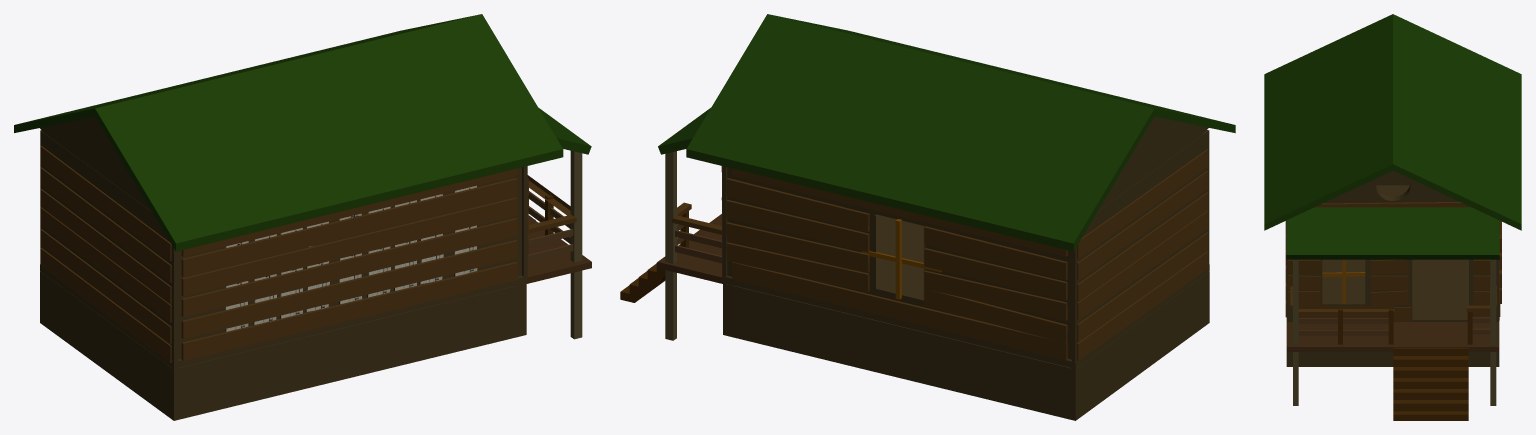
The model's file is cabin1.fbx.
The picture shows the model from 3 angles, left to right: view 1: azimuth 30°, elevation 25°; view 2: azimuth 150°, elevation 25°; view 3: azimuth 270°, elevation 25°; orthographic projection. The views are drawn at different scales.
Parts seen in each view (by area): view 1: Cube.123, Cube.170, Cube.006, Cube.166, Cube.104, Cube.008, Cube.009, Cube.003, Cube.178, Cube.004; view 2: Cube.123, Cube.170, Cube.006, Cube.166, Cube.104, Cube.009, Cube.003, Cube.122, Cube.168, Cube.178, Cube.004; view 3: Cube.123, Cube.170, Cube.122, Cube.104, Cube.003, Cube.166, Cube.006, Cube.009, Cube.178, Cube.004, Cube.181, Cube.168.
Boxes of the visible parts, <box> form: Cube.123: <box>14,14,591,251</box>; Cube.170: <box>40,146,529,363</box>; Cube.006: <box>40,271,526,420</box>; Cube.166: <box>40,116,527,369</box>; Cube.104: <box>40,264,523,368</box>; Cube.008: <box>225,185,477,331</box>; Cube.009: <box>570,151,582,339</box>; Cube.003: <box>515,215,591,285</box>; Cube.178: <box>527,191,573,261</box>; Cube.004: <box>527,175,576,233</box>; Cube.123: <box>658,14,1235,251</box>; Cube.170: <box>721,149,1208,360</box>; Cube.006: <box>723,271,1209,420</box>; Cube.166: <box>722,116,1209,369</box>; Cube.104: <box>723,216,1209,368</box>; Cube.009: <box>665,151,676,340</box>; Cube.003: <box>657,215,734,285</box>; Cube.122: <box>620,214,721,302</box>; Cube.168: <box>861,219,941,299</box>; Cube.178: <box>675,224,721,263</box>; Cube.004: <box>672,202,721,234</box>; Cube.123: <box>1264,14,1521,259</box>; Cube.170: <box>1285,202,1501,321</box>; Cube.122: <box>1393,347,1468,420</box>; Cube.104: <box>1322,185,1468,318</box>; Cube.003: <box>1287,322,1498,351</box>; Cube.166: <box>1286,170,1499,325</box>; Cube.006: <box>1286,326,1499,366</box>; Cube.009: <box>1293,259,1496,405</box>; Cube.178: <box>1298,317,1490,335</box>; Cube.004: <box>1290,285,1496,311</box>; Cube.181: <box>1338,308,1472,344</box>; Cube.168: <box>1322,259,1365,304</box>.
Bounding box in the file's own units: 1572 × 884 × 907.
